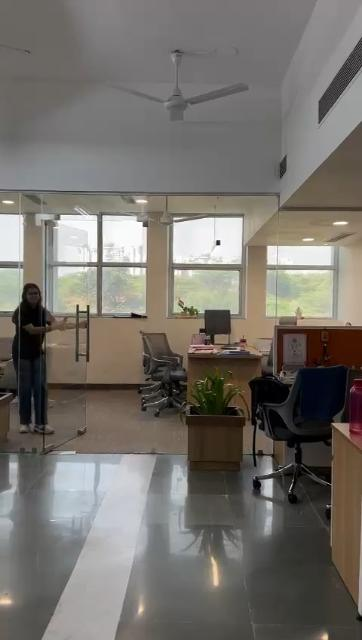floor: (0, 390, 362, 639)
moving-obj: (3, 275, 80, 449)
object: (262, 364, 346, 510), (183, 373, 253, 481), (141, 324, 185, 420), (200, 308, 242, 360), (348, 374, 362, 438)
wall: (89, 316, 138, 388), (242, 196, 266, 334), (144, 230, 172, 326), (342, 217, 362, 326), (16, 215, 44, 283)
